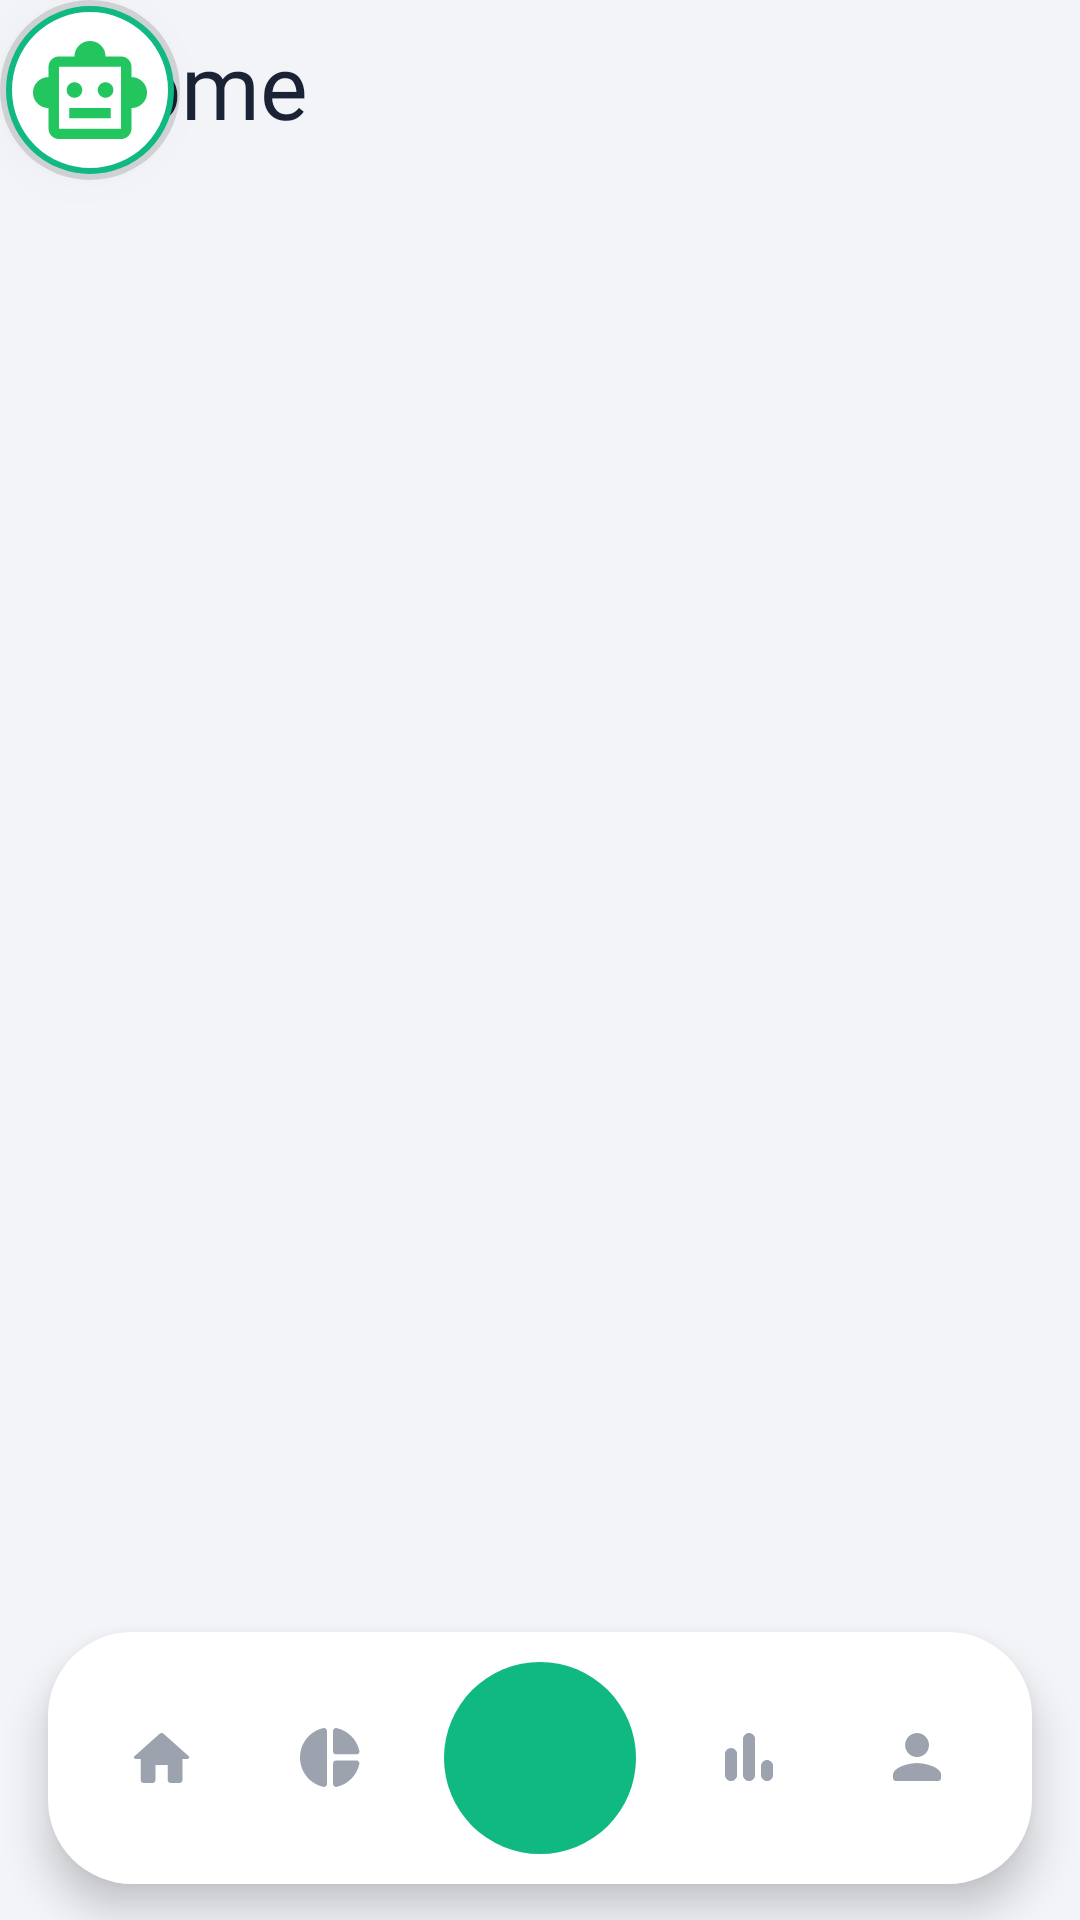

Locate icon controls on the screen. Image size 1080×1920, boxes as (x1, y1, x2, y2).
Home: (134, 1733, 189, 1783)
Profile: (893, 1733, 941, 1781)
Stats: (725, 1733, 773, 1781)
